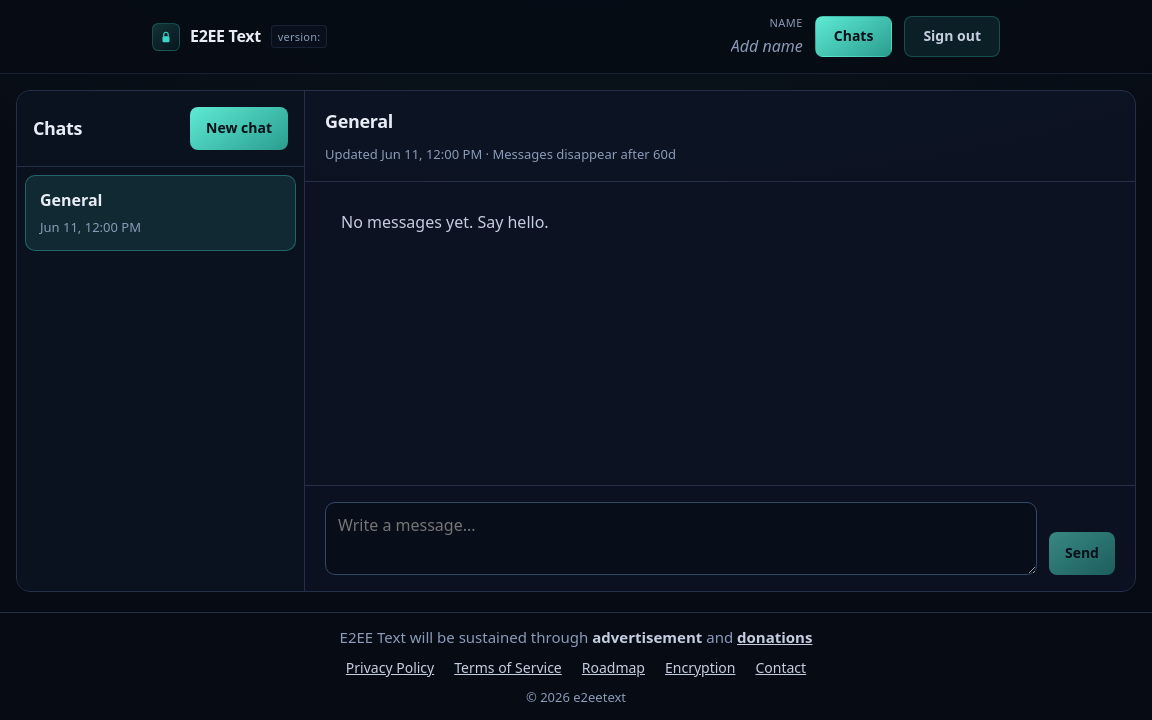
Test case: ChatsPage › opens chat settings and lists members
Click the button with aria-label "Chat settings for General": (359, 122) [325,107,393,136]
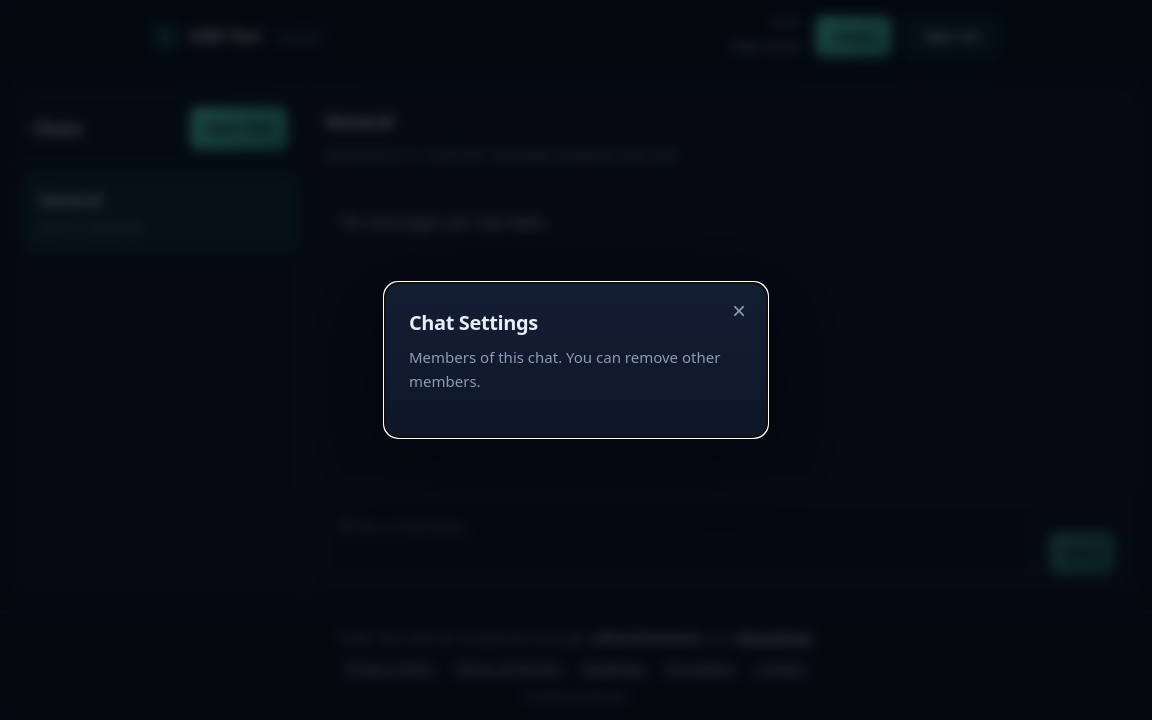
Check: the dialog is shown, box [384,282,768,438]
